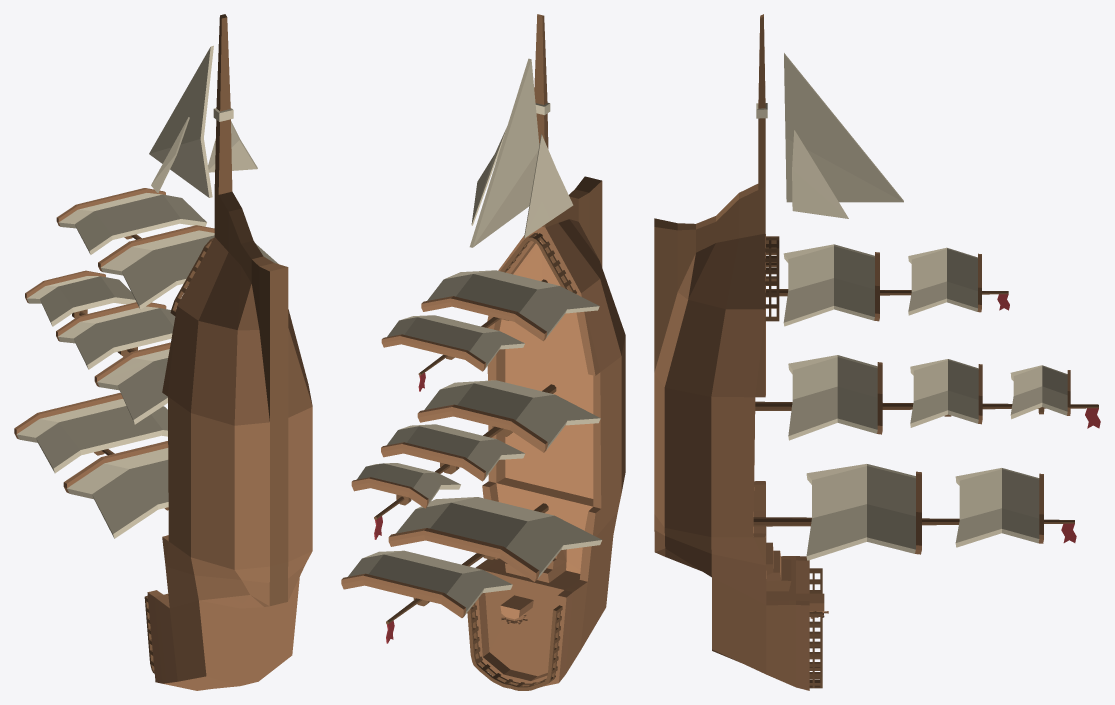
File: Hidden_Ship.fbx
3 renders of one model, left to right at view 1: azimuth 30°, elevation 25°; view 2: azimuth 150°, elevation 25°; view 3: azimuth 270°, elevation 25°, orthographic. The views are drawn at different scales.
Parts seen in each view (by area): view 1: imagetostl_mesh6, imagetostl_mesh9, imagetostl_mesh1, imagetostl_mesh5, imagetostl_mesh3, imagetostl_mesh7, imagetostl_mesh4, imagetostl_mesh0, imagetostl_mesh2; view 2: imagetostl_mesh6, imagetostl_mesh8, imagetostl_mesh1, imagetostl_mesh5, imagetostl_mesh7, imagetostl_mesh3, imagetostl_mesh9, imagetostl_mesh4, imagetostl_mesh0, imagetostl_mesh2; view 3: imagetostl_mesh6, imagetostl_mesh1, imagetostl_mesh5, imagetostl_mesh9, imagetostl_mesh3, imagetostl_mesh7, imagetostl_mesh4, imagetostl_mesh0.
Boxes of the visible parts, bbox=[...] form: imagetostl_mesh6: bbox=[147, 237, 312, 690]; imagetostl_mesh9: bbox=[72, 14, 288, 673]; imagetostl_mesh1: bbox=[16, 399, 168, 538]; imagetostl_mesh5: bbox=[27, 276, 175, 424]; imagetostl_mesh3: bbox=[58, 193, 278, 309]; imagetostl_mesh7: bbox=[149, 45, 257, 197]; imagetostl_mesh4: bbox=[25, 270, 170, 386]; imagetostl_mesh0: bbox=[14, 393, 168, 493]; imagetostl_mesh2: bbox=[56, 188, 214, 271]; imagetostl_mesh6: bbox=[475, 219, 625, 686]; imagetostl_mesh8: bbox=[496, 240, 593, 619]; imagetostl_mesh1: bbox=[348, 497, 601, 615]; imagetostl_mesh5: bbox=[357, 380, 600, 506]; imagetostl_mesh7: bbox=[469, 58, 573, 247]; imagetostl_mesh3: bbox=[387, 270, 599, 368]; imagetostl_mesh9: bbox=[374, 14, 602, 690]; imagetostl_mesh4: bbox=[351, 404, 547, 508]; imagetostl_mesh0: bbox=[341, 528, 539, 617]; imagetostl_mesh2: bbox=[381, 296, 546, 371]; imagetostl_mesh6: bbox=[654, 233, 824, 690]; imagetostl_mesh1: bbox=[806, 464, 1039, 560]; imagetostl_mesh5: bbox=[788, 355, 1067, 440]; imagetostl_mesh9: bbox=[654, 14, 1098, 688]; imagetostl_mesh3: bbox=[783, 244, 977, 326]; imagetostl_mesh7: bbox=[756, 53, 903, 218]; imagetostl_mesh4: bbox=[877, 362, 1070, 434]; imagetostl_mesh0: bbox=[915, 471, 1043, 554].
Size of the model in its own units: 170 by 638 by 385.
